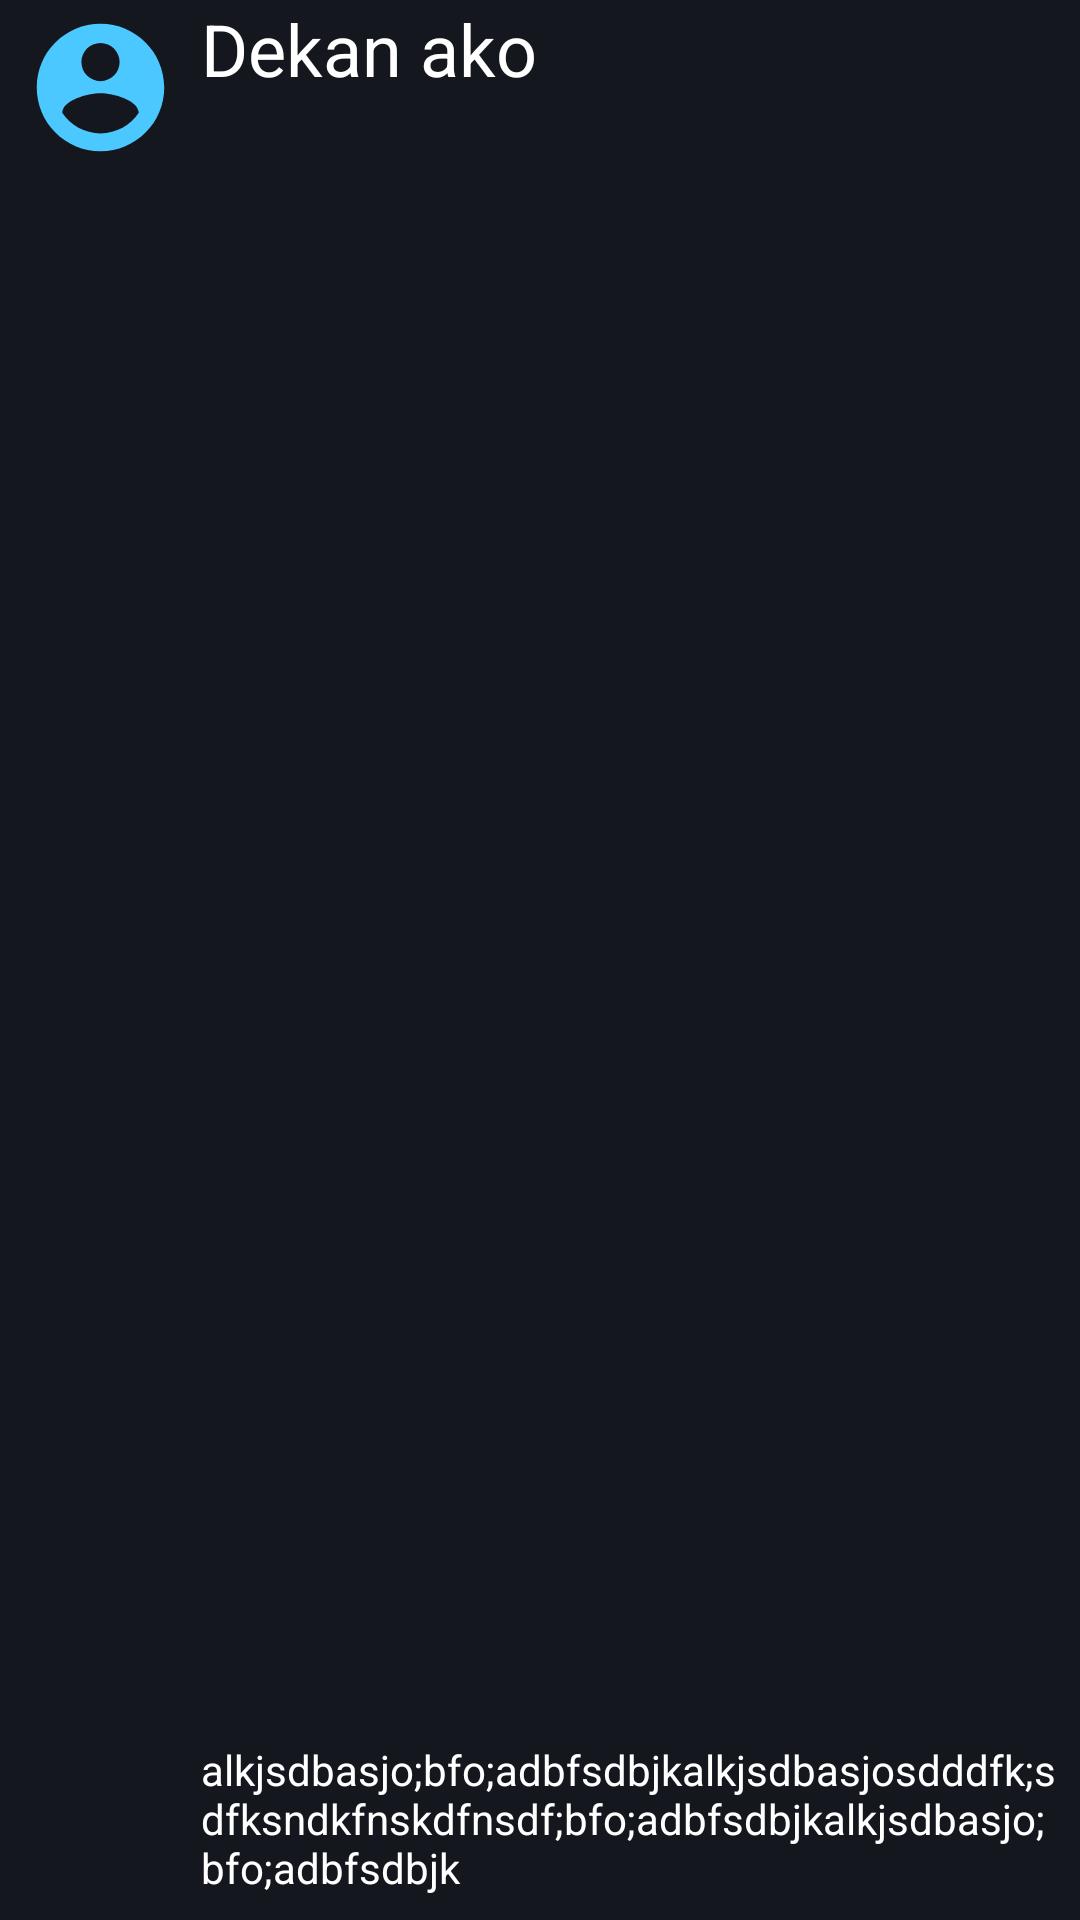

Where to tap for icons on this 1080 × 1920 app screen, as point (x, y):
account circle: point (100, 87)
